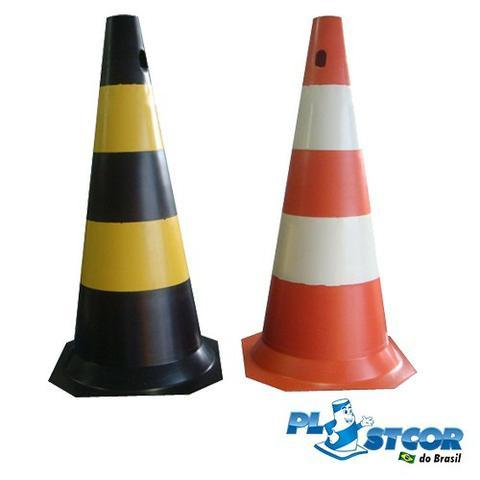traffic_cone: (48, 13, 223, 398), (240, 14, 418, 392)
